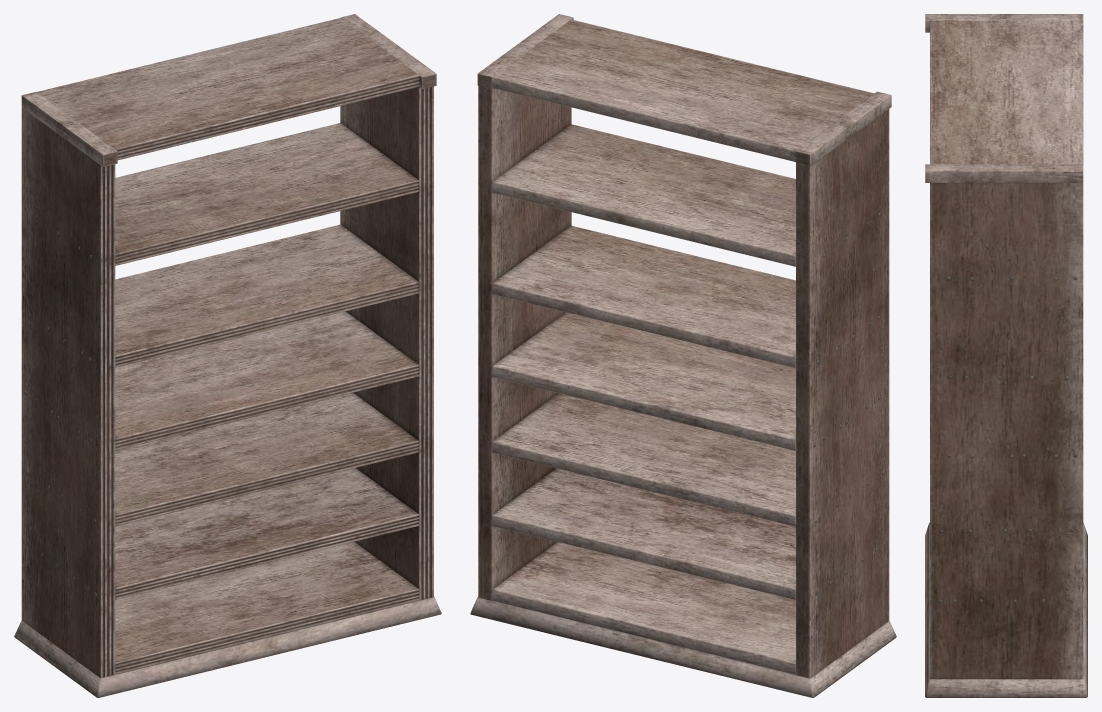
File: wooden_bookshelf_worn.glb
3 views of the same model, side by side, from view 1: azimuth 30°, elevation 25°; view 2: azimuth 150°, elevation 25°; view 3: azimuth 270°, elevation 25° (orthographic). The views are drawn at different scales.
Visible parts, largest first — view 1: wooden_bookshelf_worn; view 2: wooden_bookshelf_worn; view 3: wooden_bookshelf_worn.
Boxes of the visible parts, box(x1,y1,x2,y2) form: wooden_bookshelf_worn: box(14, 14, 441, 697); wooden_bookshelf_worn: box(470, 14, 896, 697); wooden_bookshelf_worn: box(925, 14, 1087, 697).
Bounding box in the file's own units: 1.37 × 2.06 × 0.5814.
1 material, 1 textured.
